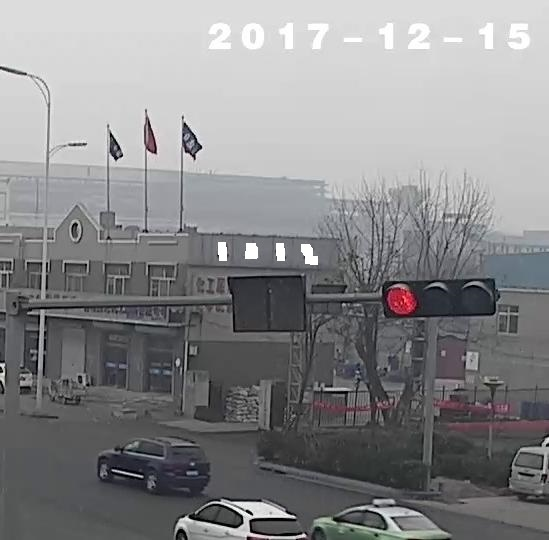red: (378, 280, 418, 318)
